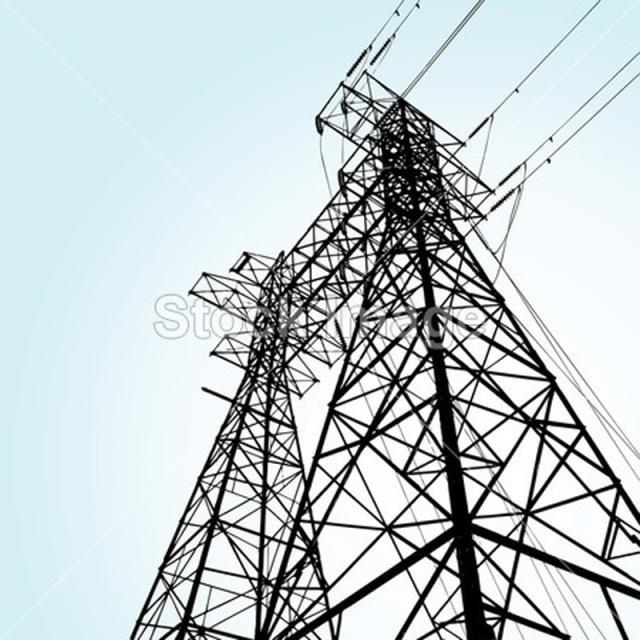non-critical vegetation: (172, 97, 610, 622)
